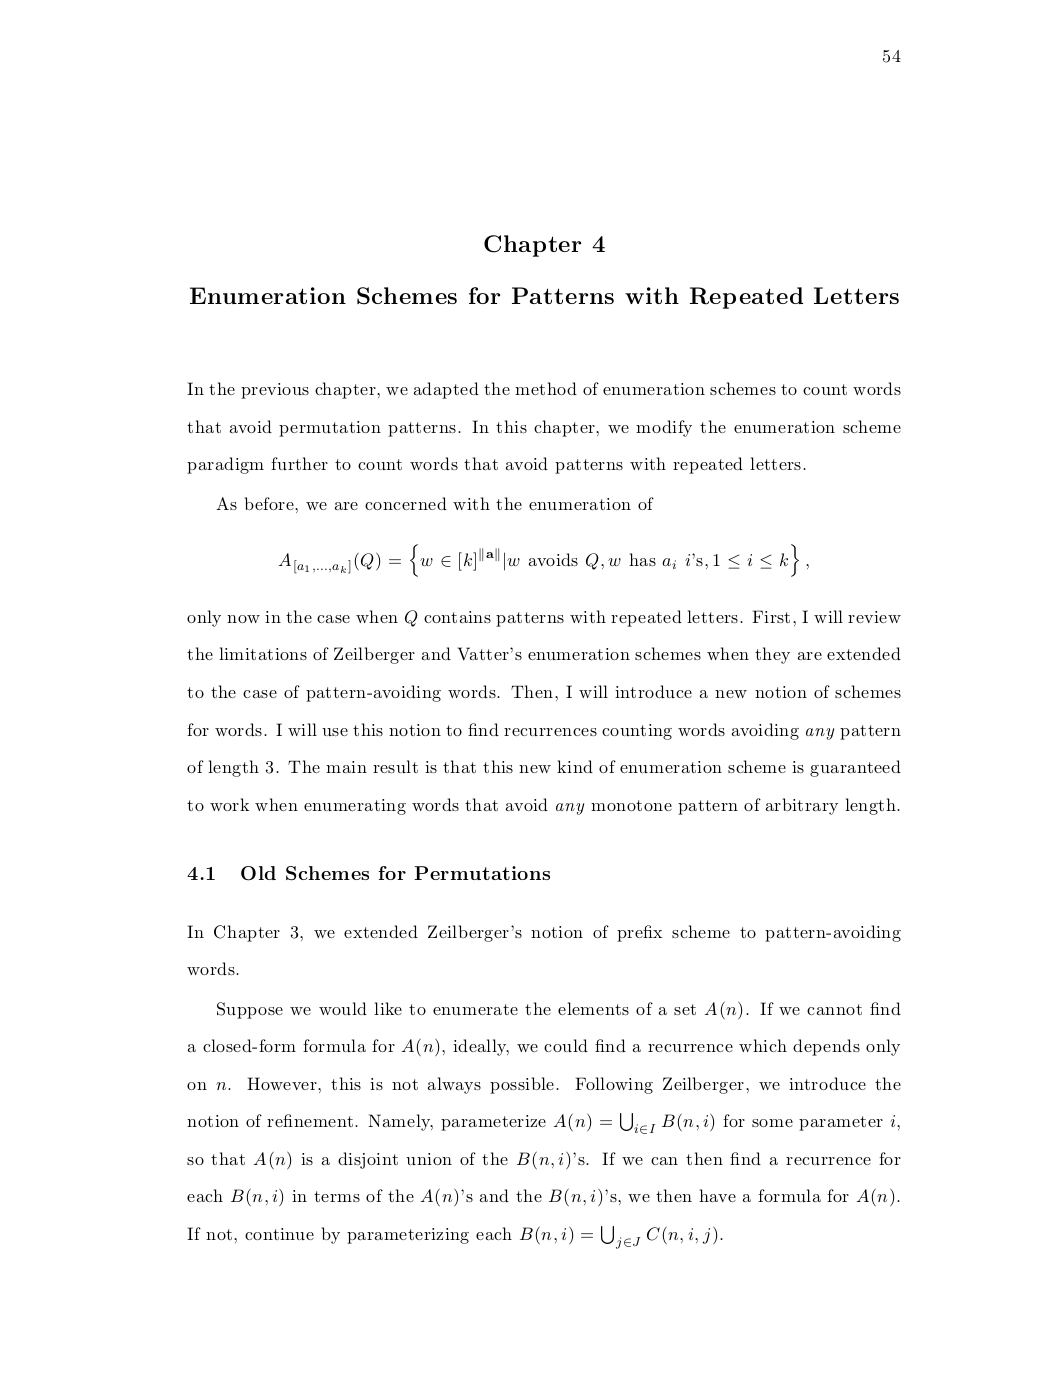formula: (278, 543, 808, 577)
